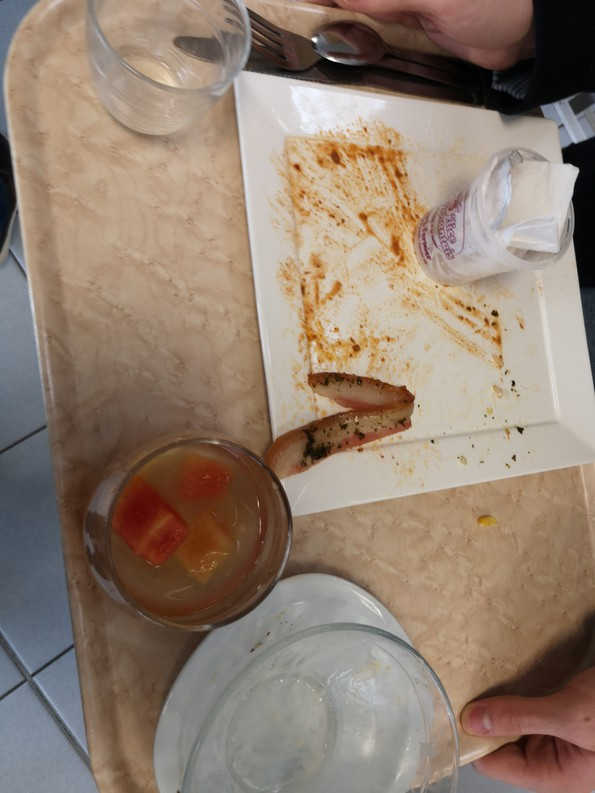cup: (94, 1, 269, 125)
cutlery: (185, 3, 565, 118)
orga: (271, 373, 438, 482), (130, 480, 248, 581)
trash: (441, 154, 574, 280)
